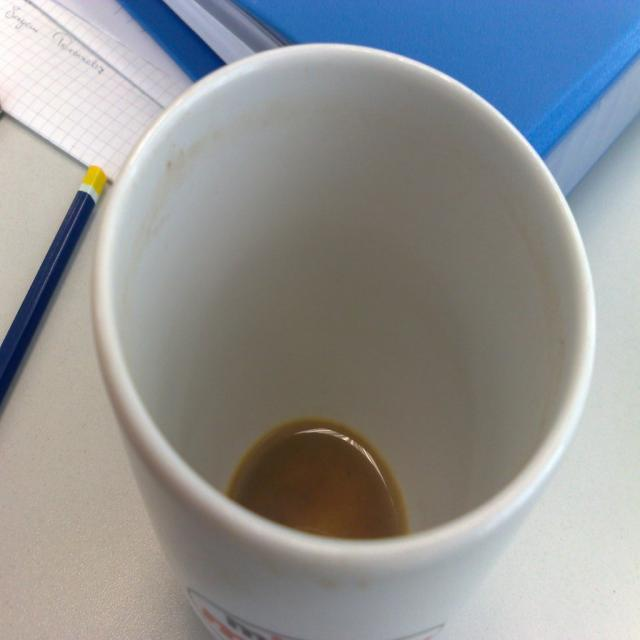Coffee: (226, 425, 412, 540)
Tea: (230, 418, 412, 540)
